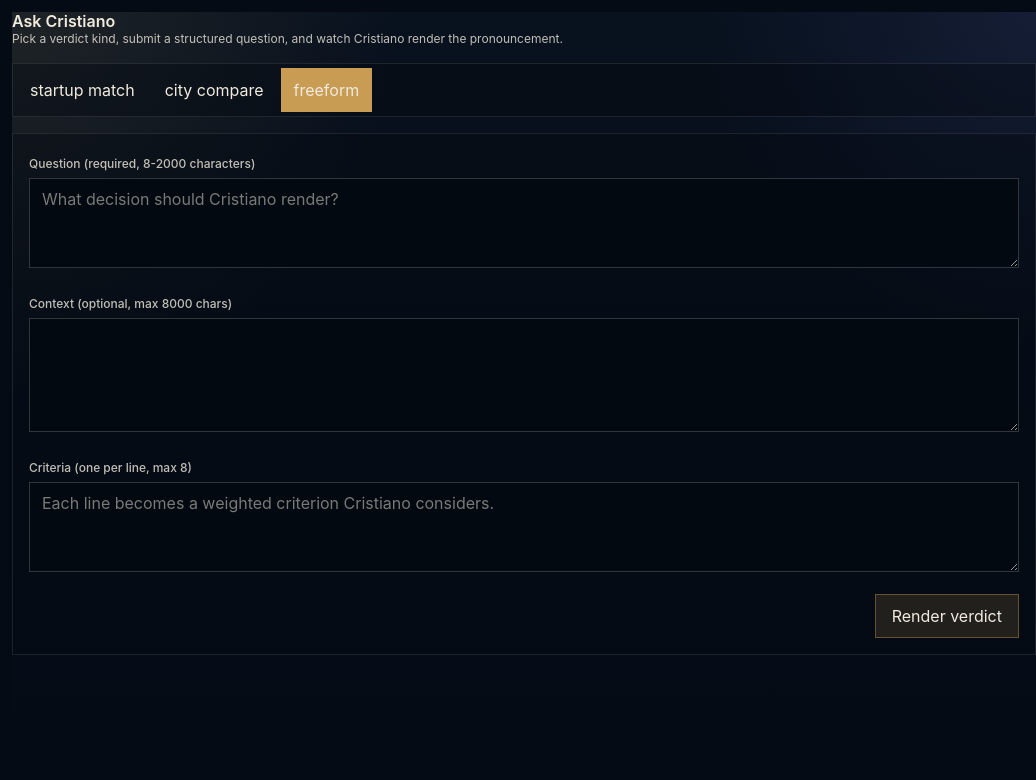
Test: AskCristiano — submit + render flow › surfaces an error when the API returns a 4xx/5xx
In the text box with test id "ask-cristiano-question": (524, 223) [29, 178, 1019, 268], type "Should we hire a CTO this quarter?"
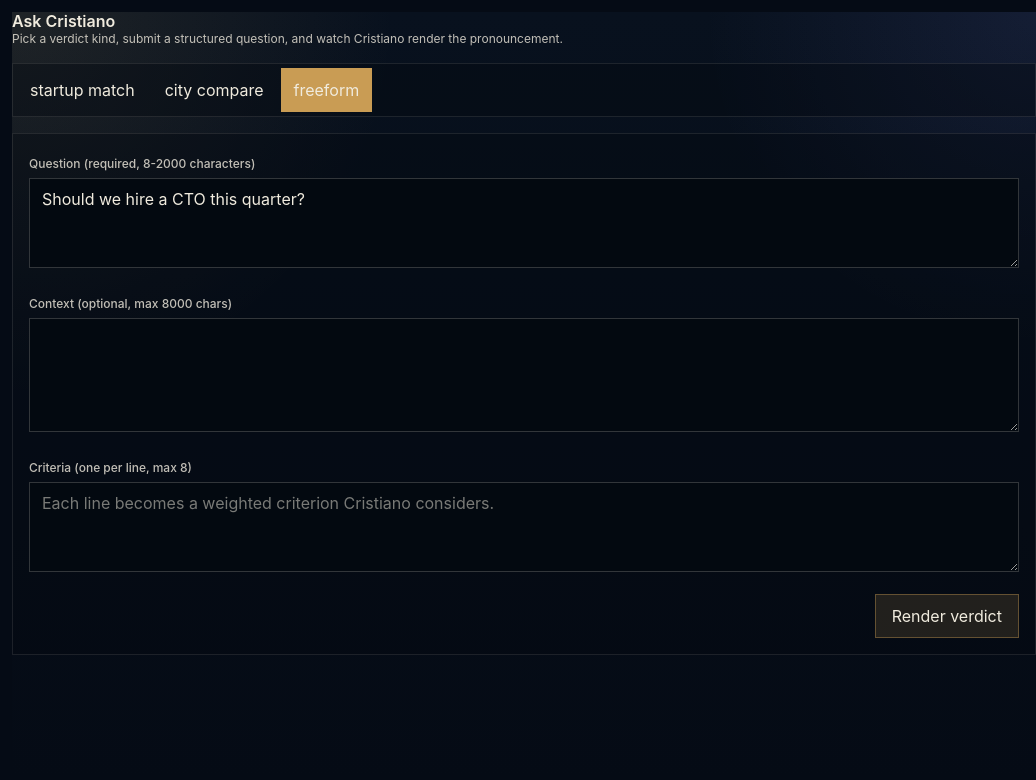
Click the button with test id "ask-cristiano-submit": (947, 616) [875, 594, 1019, 638]
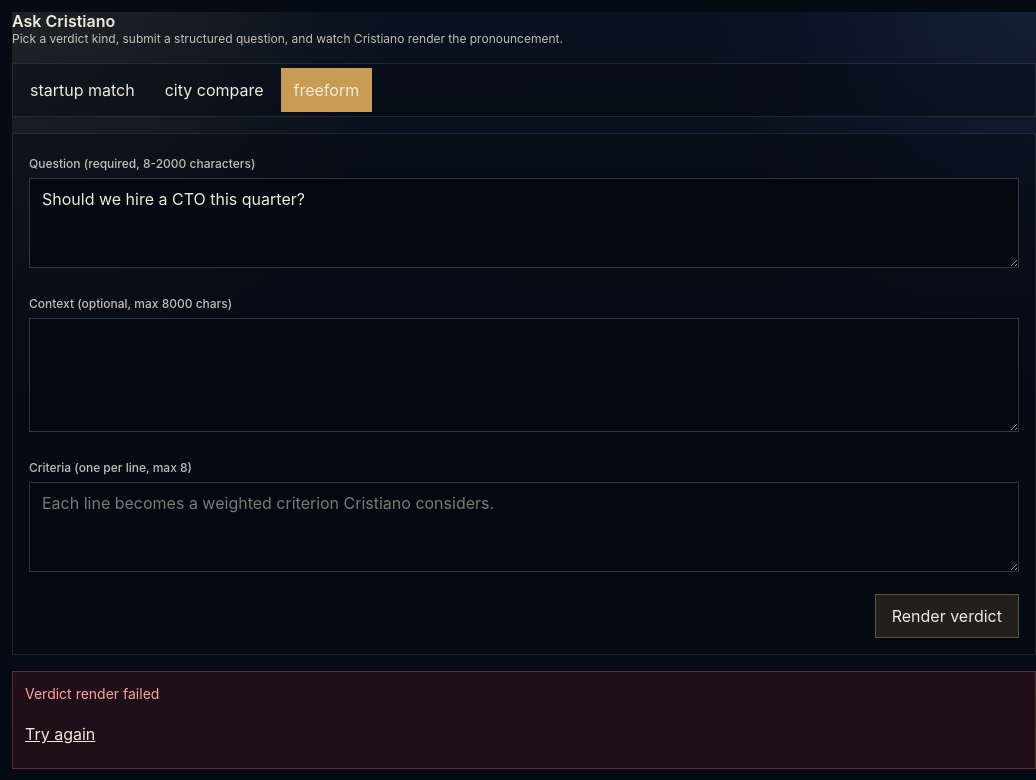
Expected: the message "Verdict render failed Try again" is shown, [12, 671, 1035, 769]
